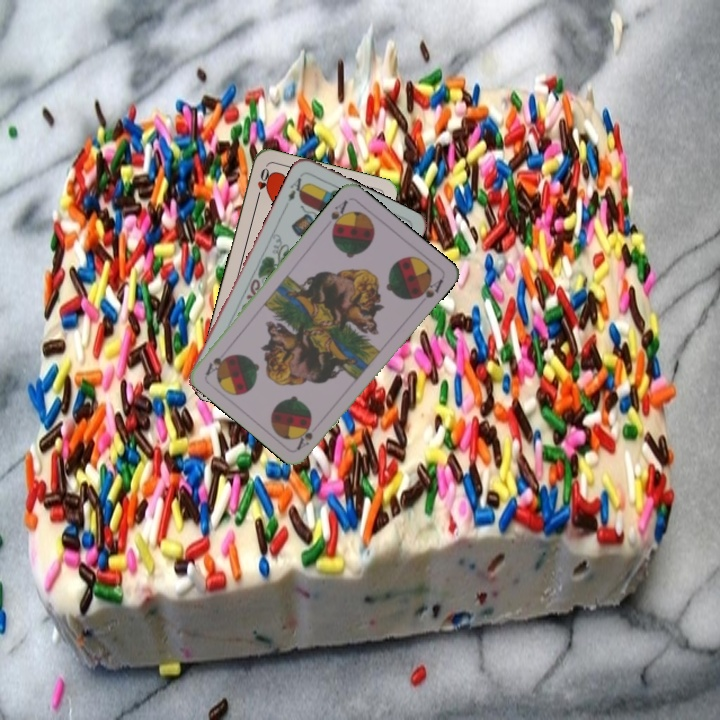EA: (284, 173, 309, 204)
HO: (252, 164, 273, 203)
SA: (327, 196, 350, 234), (292, 420, 315, 452)
